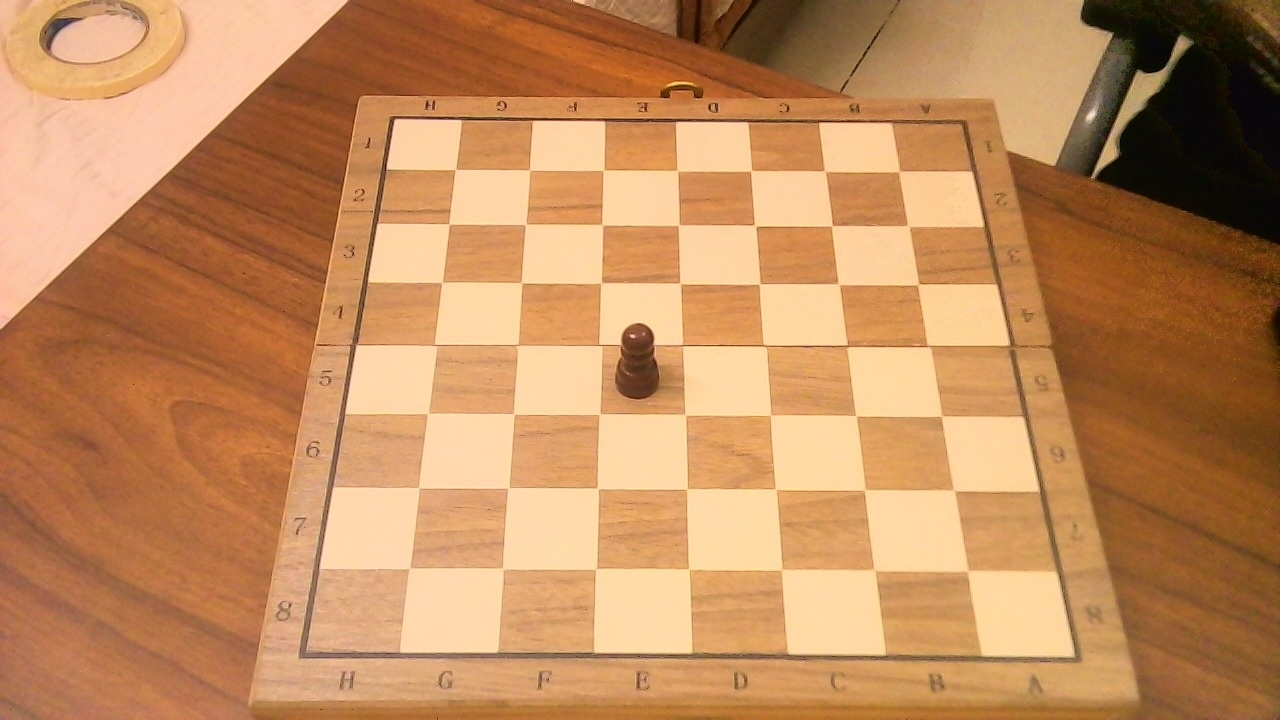p: (609, 317, 674, 407)
